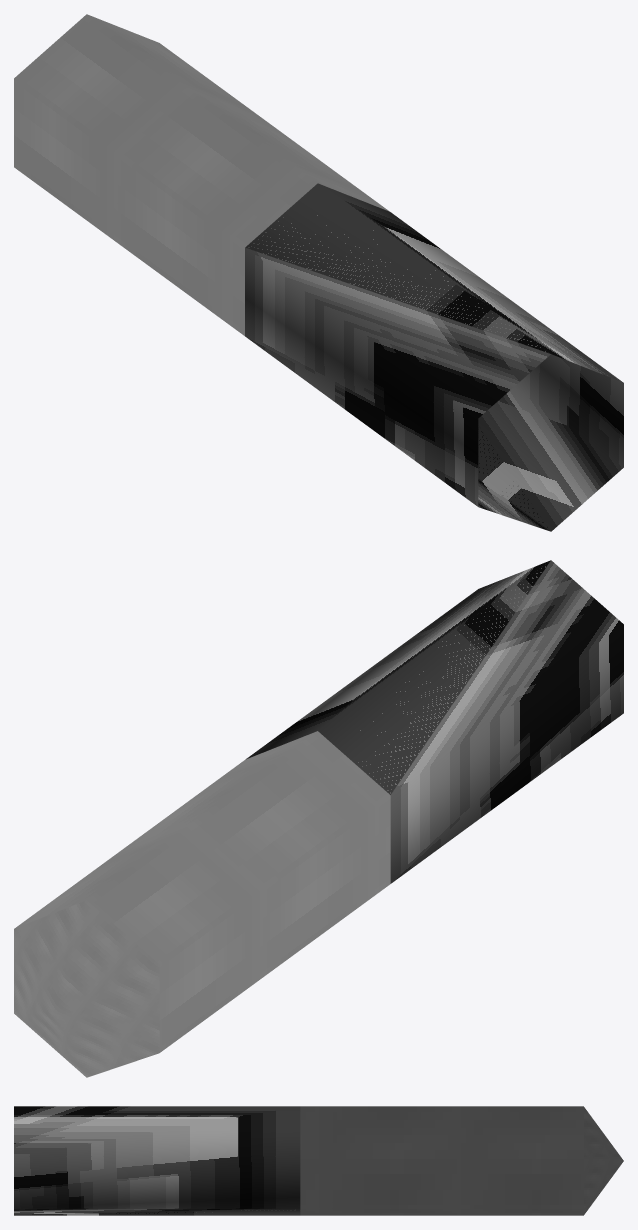
Rendered from PchrtesttubeZ.obj.
The picture shows the model from 3 angles, top to bottom: view 1: azimuth 30°, elevation 25°; view 2: azimuth 150°, elevation 25°; view 3: azimuth 270°, elevation 25°; orthographic projection. The views are drawn at different scales.
Bounding box in the file's own units: 36 × 42 × 213.
Materials: 2 (2 with a texture image).
